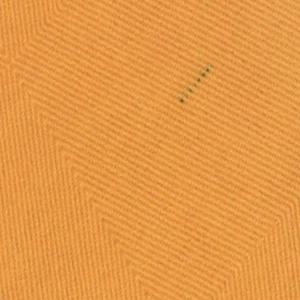stain: (177, 63, 214, 107)
